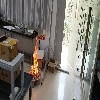fire: (29, 36, 39, 78)
